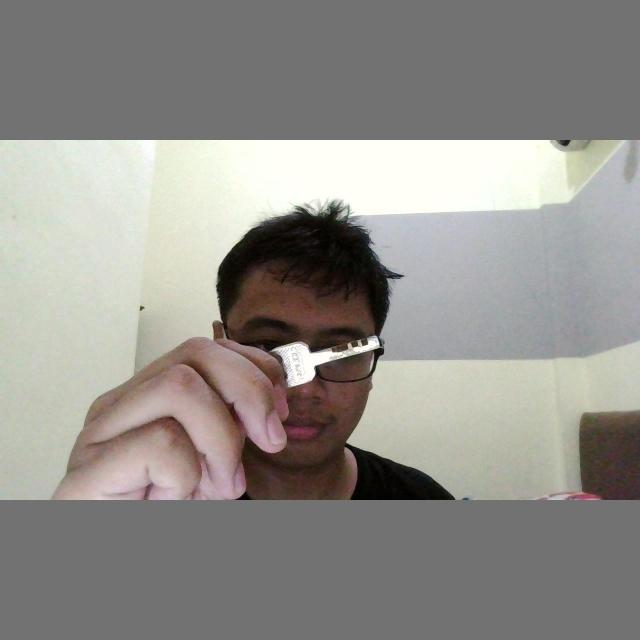Keys: (264, 328, 384, 394)
